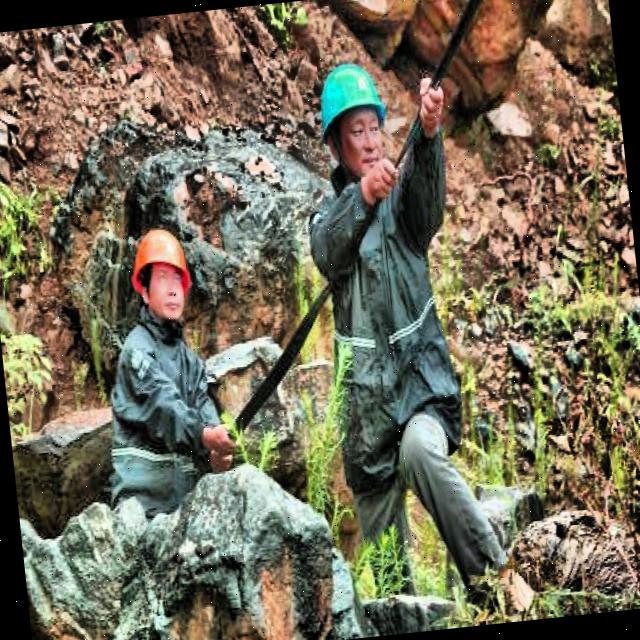helmet: (304, 48, 401, 194), (118, 215, 200, 331)
